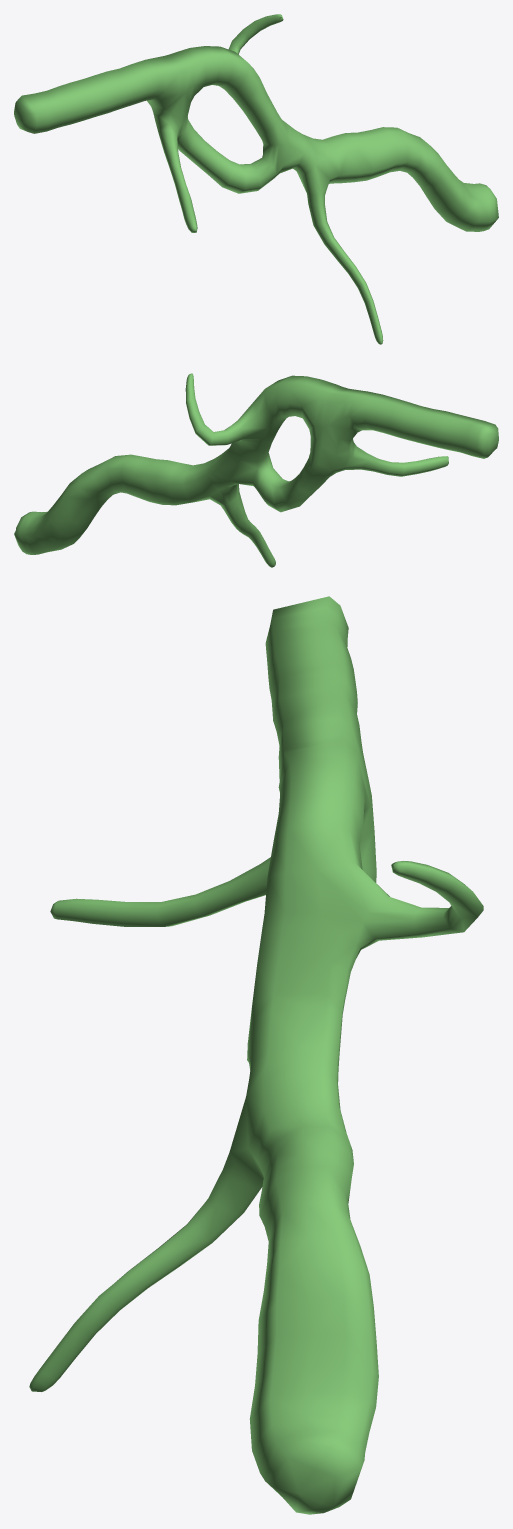
Rendered from branche_B_LP.fbx.
3 views of the same model, one above another, from view 1: azimuth 30°, elevation 25°; view 2: azimuth 150°, elevation 25°; view 3: azimuth 270°, elevation 25° (orthographic). The views are drawn at different scales.
Visible parts, largest first — view 1: branche_B_LP; view 2: branche_B_LP; view 3: branche_B_LP.
Part boxes in pixels (box(x1,y1,x2,y2)): branche_B_LP: box(14, 14, 498, 344); branche_B_LP: box(14, 373, 498, 567); branche_B_LP: box(29, 596, 483, 1514).
Size of the model in its own units: 1697 by 908 by 707.
